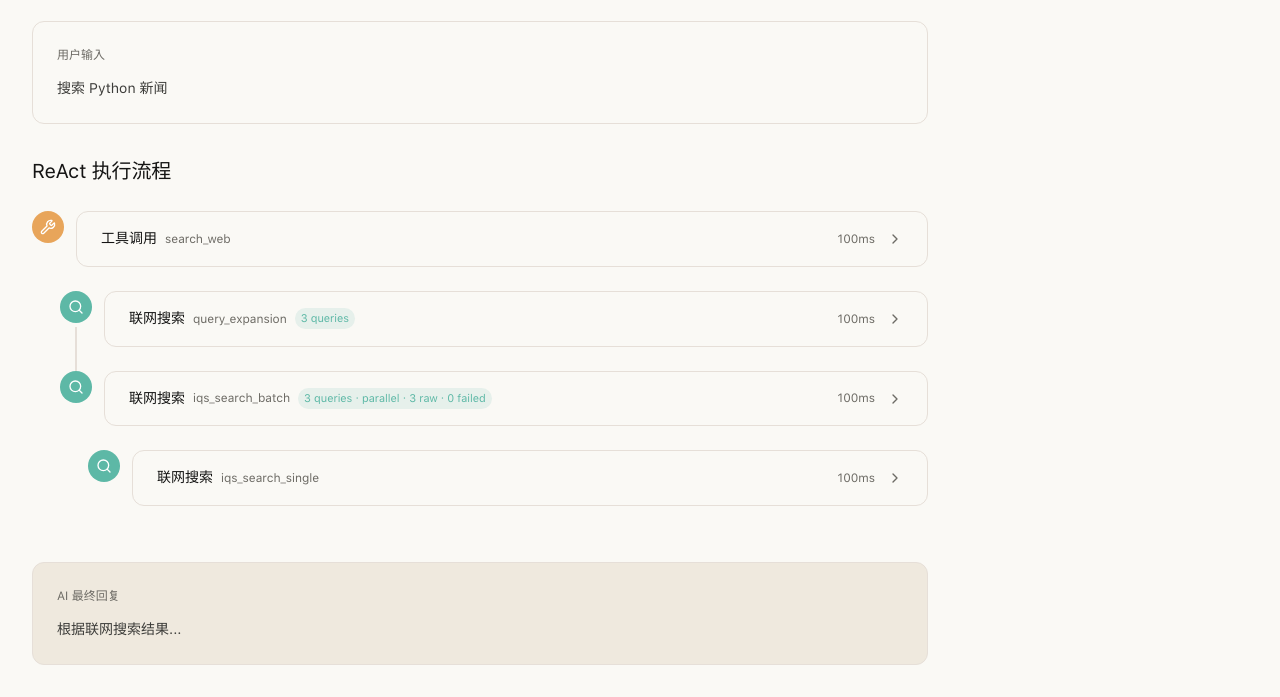
Test: AgentTraceDetailPage span tree › 按父子关系展示联网搜索内部流程和 metadata
(page scrolled)
Expected: the text "联网搜索" is shown 3 times, [129, 308, 185, 330]; [129, 388, 185, 409]; [157, 467, 213, 489]
Expected: the text "3 queries · parallel · 3 raw · 0 failed" is shown, [298, 388, 492, 409]
What coordinates should you click on to do the following:
click the text "iqs_search_batch"
I would click on:
 (242, 399)
Its box is [193, 389, 290, 408].
(page scrolled)
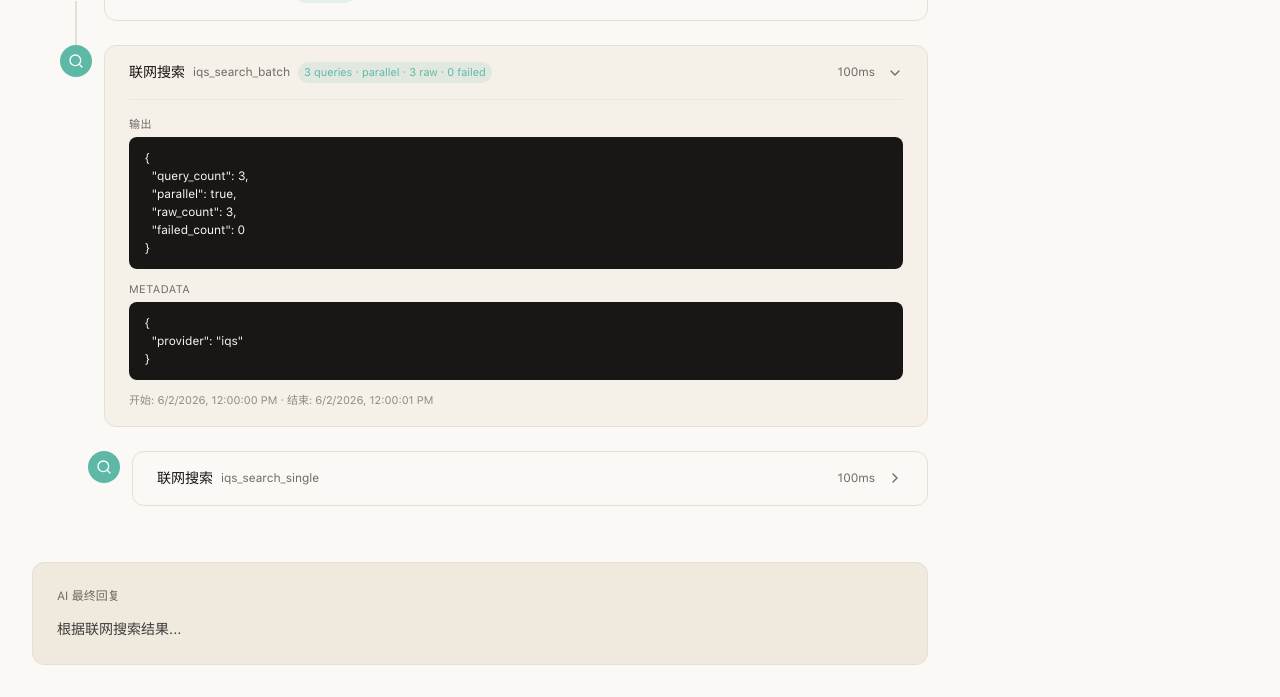
Expected: the text "{ \"provider\": \"iqs\" }" is shown, [129, 302, 903, 380]
